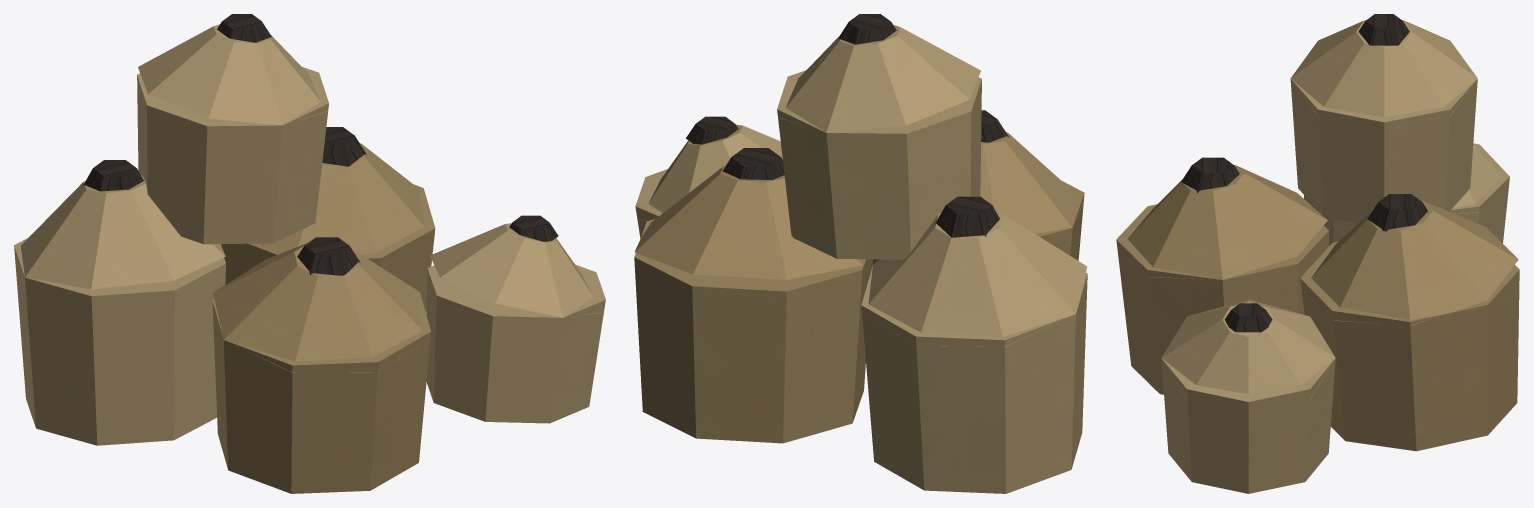
The model's file is sack_pile_01.glb.
3 views of the same model, side by side, from view 1: azimuth 30°, elevation 25°; view 2: azimuth 150°, elevation 25°; view 3: azimuth 270°, elevation 25° (orthographic). The views are drawn at different scales.
Visible parts, largest first — view 1: sack_pile_01; view 2: sack_pile_01; view 3: sack_pile_01.
Boxes of the visible parts, <box> form: sack_pile_01: <box>14,14,605,493</box>; sack_pile_01: <box>634,14,1087,493</box>; sack_pile_01: <box>1116,14,1519,493</box>.
Bounding box in the file's own units: 1.64 × 1.2 × 1.25.
Materials: 3 (3 with a texture image).
